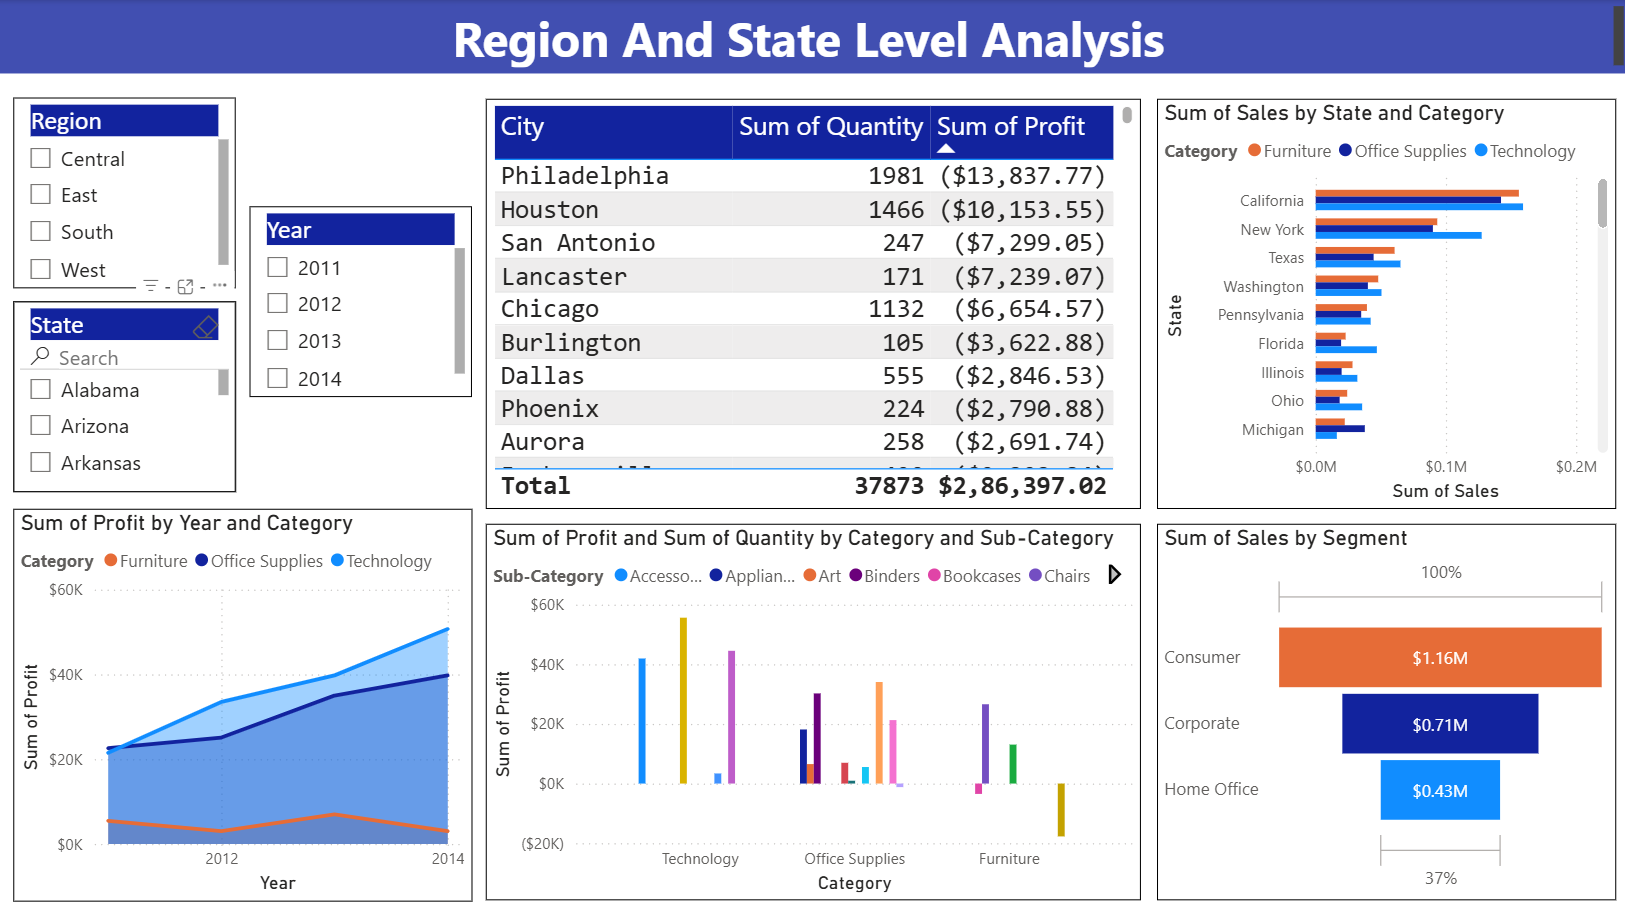

Layout of this report page (visuals, bound fields, positions):
{"tool":"powerbi","page":{"name":"Region and State","canvas":[1280,720],"ordinal":1},"visuals":[{"type":"textbox","box":[0,0,1280.3,57.6],"z":0},{"type":"slicer","fields":{"Values":["Orders.Region"]},"box":[12.3,76.8,174.3,149.6],"z":1000},{"type":"slicer","fields":{"Values":["Orders.State"]},"box":[12.4,236.3,174.5,149.7],"z":2000},{"type":"slicer","fields":{"Values":["Orders.Year"]},"box":[197.8,162.1,174.5,149.7],"z":3000},{"type":"tableEx","fields":{"Values":["Orders.City","Sum(Orders.Quantity)","Sum(Orders.Profit)"]},"box":[383.3,76.9,513.8,321.4],"z":4000},{"type":"clusteredBarChart","fields":{"Category":["Orders.State"],"Series":["Orders.Category"],"Y":["Sum(Orders.Sales)"]},"box":[909.4,76.9,359.9,321.4],"z":5000},{"type":"areaChart","fields":{"Y":["Sum(Orders.Profit)"],"Category":["Orders.Year"],"Series":["Orders.Category"]},"box":[12.4,398.4,359.9,307.7],"z":6000},{"type":"lineClusteredColumnComboChart","fields":{"Category":["Orders.Category"],"Series":["Orders.Sub-Category"],"Y":["Sum(Orders.Profit)"]},"box":[383.3,410.7,513.8,295.3],"z":7000},{"type":"funnel","fields":{"Y":["Sum(Orders.Sales)"],"Category":["Orders.Segment"]},"box":[909,411,360,295],"z":8000}]}

Visuals, with their boxes in screenshot pixels (x1, y1, x2, y2), scaled from the page's 1280x720 canvas onto the 1625x908 screenshot:
textbox: 0/0/1624/73
slicer - Orders.Region: 16/97/237/286
slicer - Orders.State: 16/298/237/487
slicer - Orders.Year: 251/204/473/393
tableEx - Orders.City x Sum(Orders.Quantity): 487/97/1139/502
clusteredBarChart - Orders.State x Orders.Category: 1155/97/1611/502
areaChart - Sum(Orders.Profit) x Orders.Year: 16/502/473/890
lineClusteredColumnComboChart - Orders.Category x Orders.Sub-Category: 487/518/1139/890
funnel - Sum(Orders.Sales) x Orders.Segment: 1154/518/1611/890
